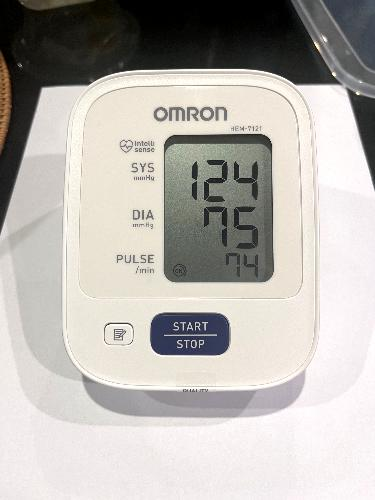bpm: (160, 130, 277, 284)
